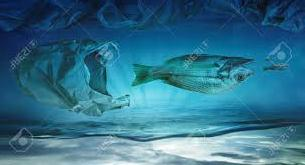Trash: (13, 35, 132, 129)
